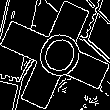O_SW: (24, 23, 86, 87)
